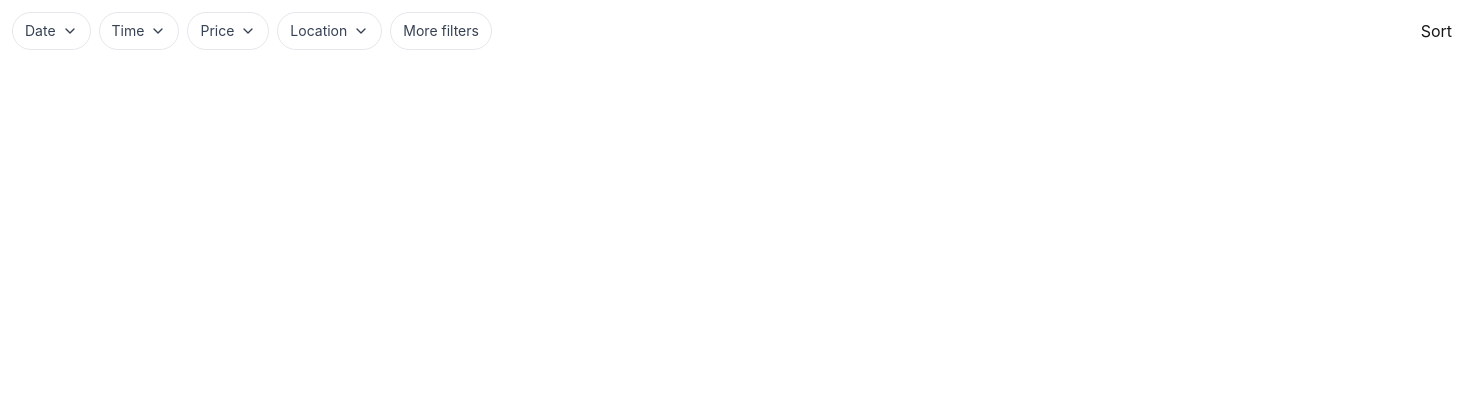
Test case: FilterBar › renders filter buttons and keeps only one dropdown open at a time
The image size is (1464, 395).
Expected: the button "Time" is shown, 99,12 -> 180,50
Expected: the button "Price" is shown, 187,12 -> 269,50
What coordinates should you click on to do the following:
click the button "Date"
I would click on:
 (51, 31)
Its box is 12,12 -> 91,50.
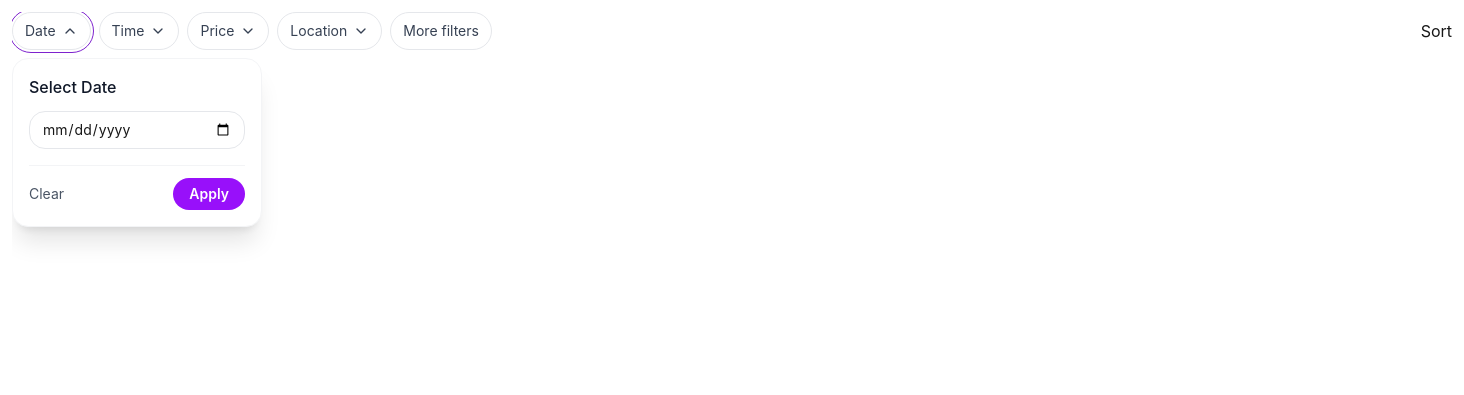
Now the heading "Select Date" is shown, box 29,77 -> 116,97
What coordinates should you click on to do the following:
click the button "Time"
I would click on:
 (139, 31)
Its box is 99,12 -> 180,50.
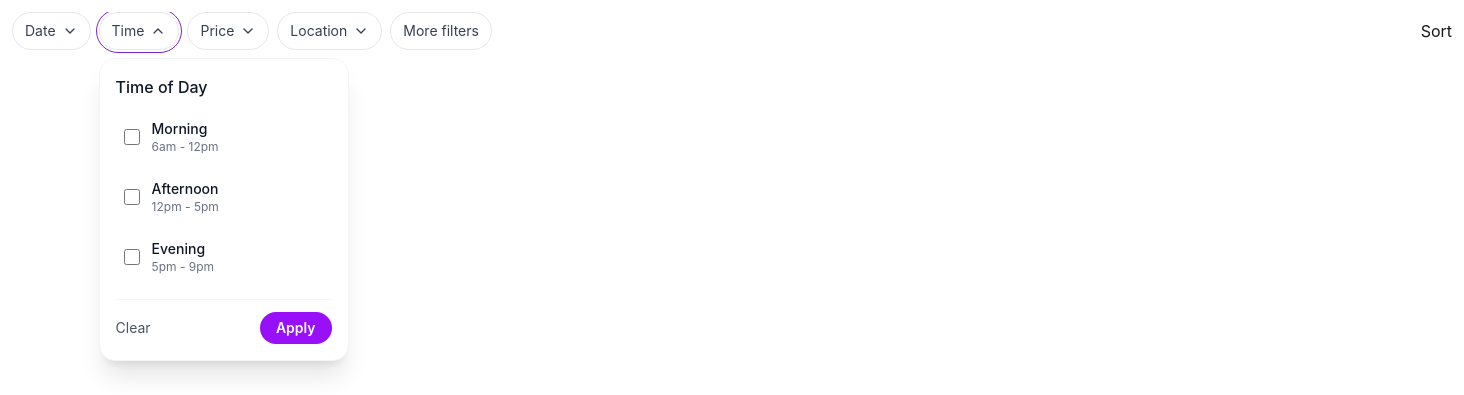
Now the heading "Time of Day" is shown, box 116,77 -> 208,97
Now the heading "Select Date" is gone
